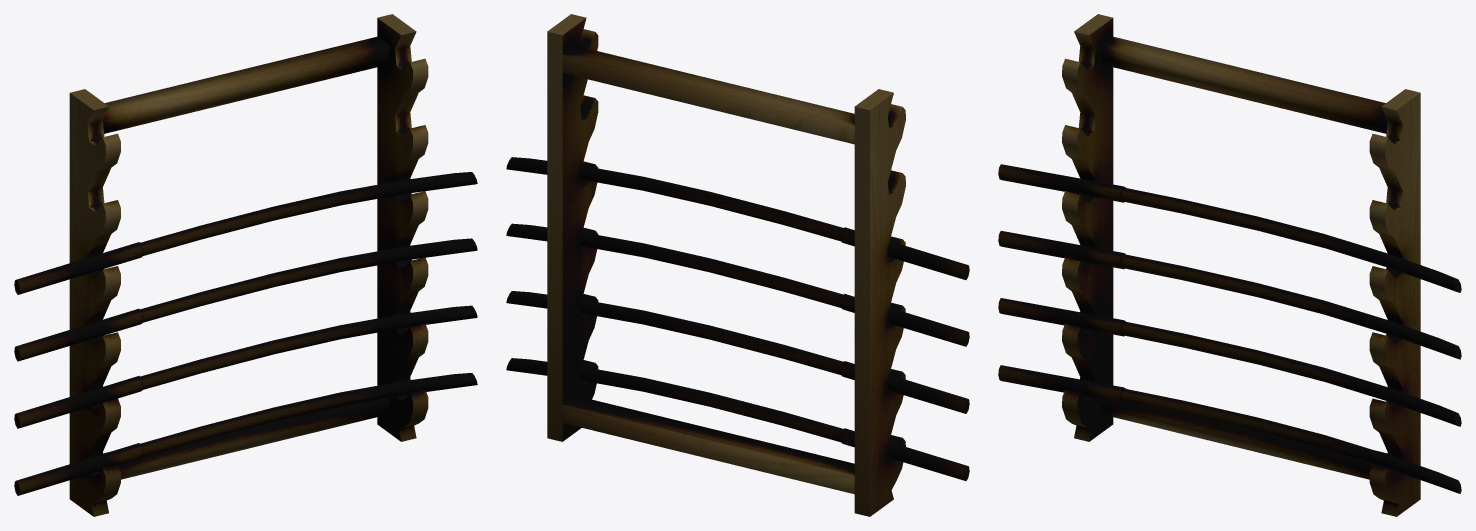
File: bokken1.a.fbx
3 views of the same model, side by side, from view 1: azimuth 30°, elevation 25°; view 2: azimuth 150°, elevation 25°; view 3: azimuth 330°, elevation 25° (orthographic).
Parts seen in each view (by area): view 1: Group 0; view 2: Group 0; view 3: Group 0.
Part boxes in pixels (box(x1,y1,x2,y2)): Group 0: box(14, 14, 477, 516); Group 0: box(506, 14, 969, 516); Group 0: box(998, 14, 1461, 516).
Size of the model in its own units: 177 by 149 by 23.89.
1 material, 1 textured.
